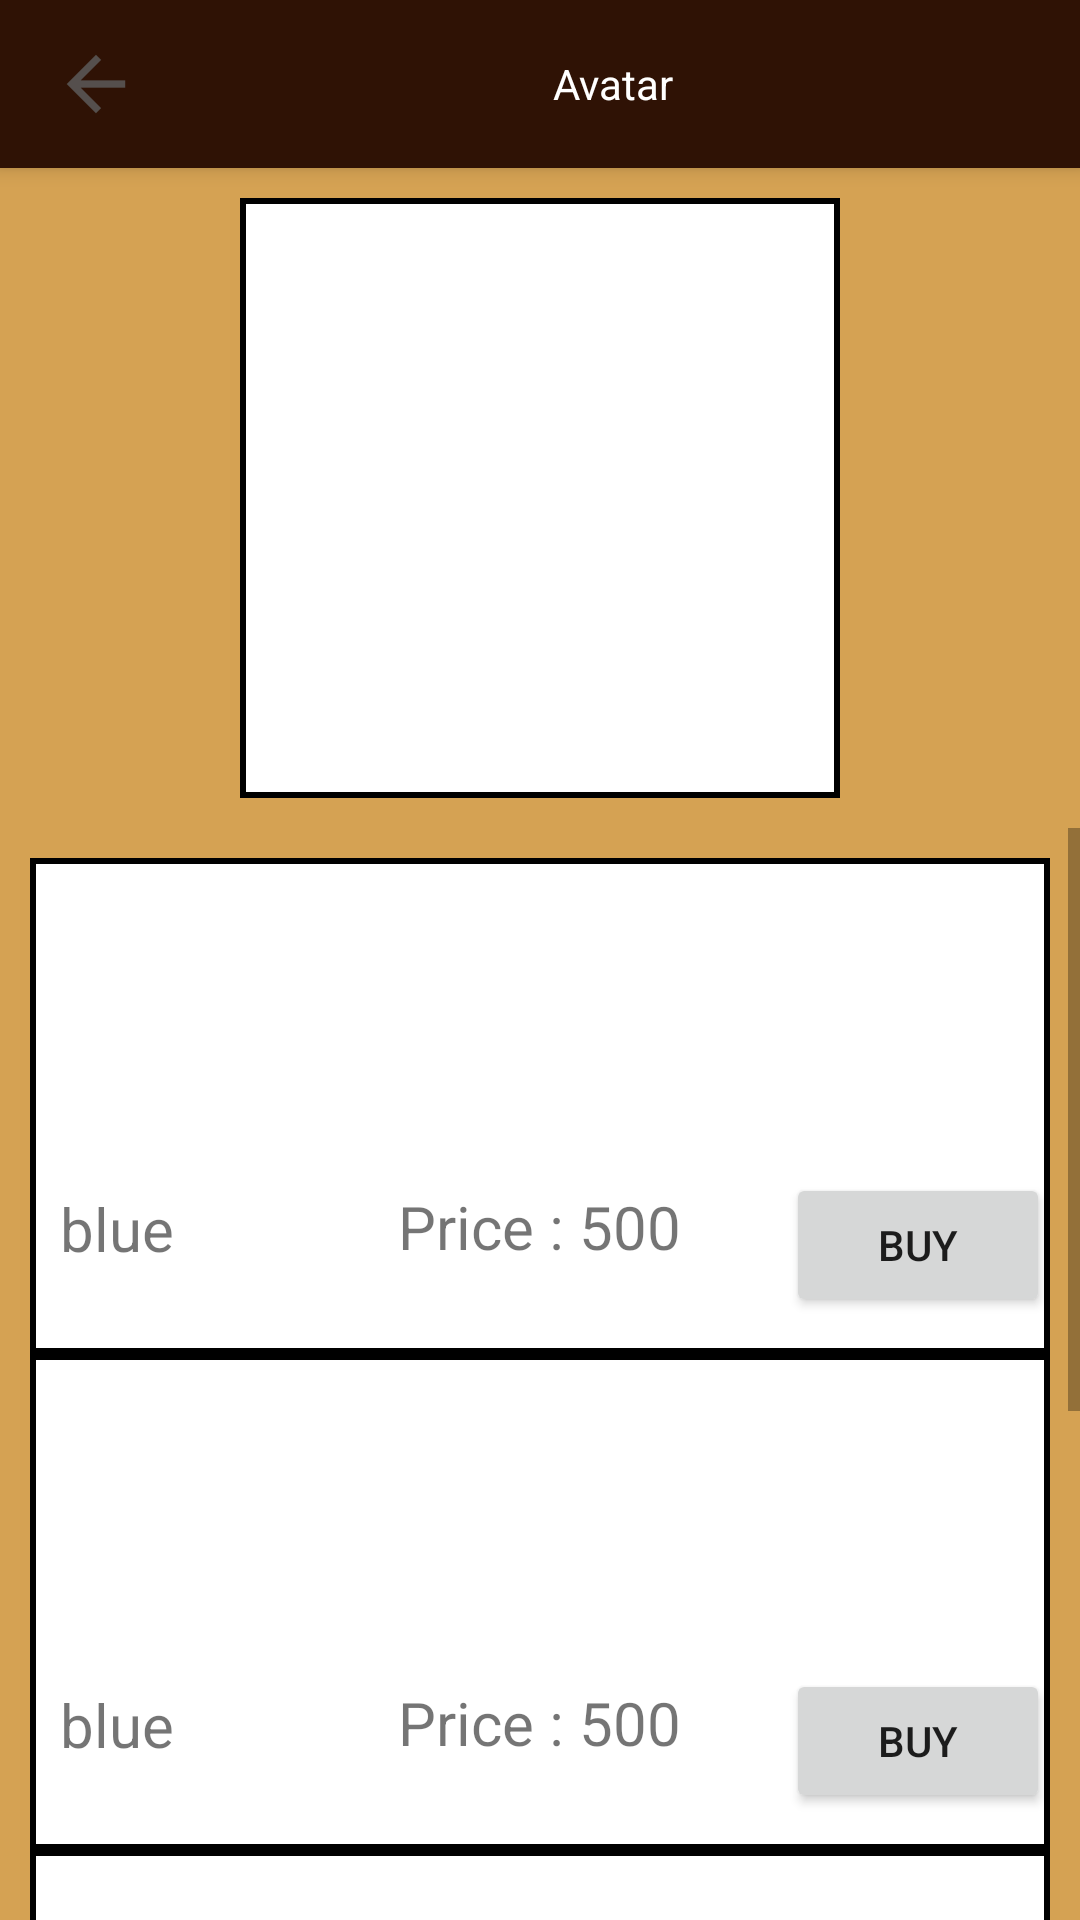

Icon bounding boxes for this 1080*1920 phone screenshot, format bbox=(x1, y1, x2, y2):
back: bbox=(67, 55, 125, 113)
